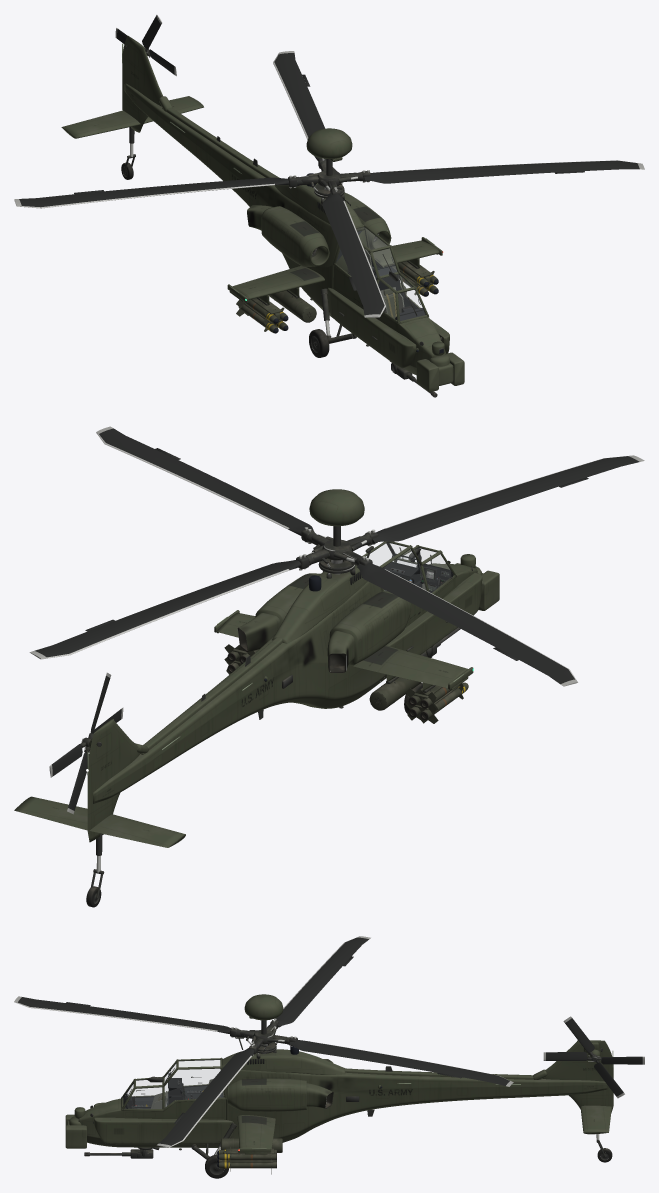
Rendered from apache_ah64d_static.glb.
The picture shows the model from 3 angles, top to bottom: view 1: azimuth 30°, elevation 25°; view 2: azimuth 150°, elevation 25°; view 3: azimuth 270°, elevation 25°; orthographic projection. The views are drawn at different scales.
Parts seen in each view (by area): view 1: Main_Rotor_Blades, Fuselage_Aft, Avionics_Bay_Right, Nacelle_Right_Skin, Fin, Stabilator, Wing_Right_Skin, TADS_Sensor_Shrouds, FCR_Radome_Mesh, Main_Rotor_Hub, Fuselage_Nose, Canopy_Frame (+9 smaller); view 2: Main_Rotor_Blades, Fuselage_Aft, Nacelle_Right_Skin, Fin, Stabilator, Rotor_Pylon, Avionics_Bay_Right, Wing_Right_Skin, Main_Rotor_Hub, FCR_Radome_Mesh, Drive_Shaft_Cover, Tail_Rotor_Blades (+6 smaller); view 3: Fuselage_Aft, Main_Rotor_Blades, Avionics_Bay_Left, Nacelle_Left_Skin, Fin, Rotor_Pylon, Tail_Rotor_Blades, Fuselage_Cockpit, Wing_Left_Skin, Canopy_Frame, Main_Rotor_Hub, Fuselage_Nose (+10 smaller).
Boxes of the visible parts, x1=… form: Main_Rotor_Blades: x1=14, y1=51, x2=644, y2=317; Fuselage_Aft: x1=124, y1=83, x2=368, y2=317; Avionics_Bay_Right: x1=327, y1=287, x2=416, y2=368; Nacelle_Right_Skin: x1=261, y1=206, x2=328, y2=266; Fin: x1=122, y1=35, x2=163, y2=132; Stabilator: x1=61, y1=96, x2=203, y2=138; Wing_Right_Skin: x1=232, y1=266, x2=324, y2=299; TADS_Sensor_Shrouds: x1=416, y1=352, x2=464, y2=392; FCR_Radome_Mesh: x1=306, y1=128, x2=352, y2=175; Main_Rotor_Hub: x1=288, y1=158, x2=370, y2=195; Fuselage_Nose: x1=398, y1=317, x2=446, y2=375; Canopy_Frame: x1=332, y1=224, x2=428, y2=324; Main_Rotor_Blades: x1=29, y1=426, x2=644, y2=686; Fuselage_Aft: x1=93, y1=581, x2=386, y2=803; Nacelle_Right_Skin: x1=329, y1=591, x2=410, y2=664; Fin: x1=87, y1=718, x2=140, y2=842; Stabilator: x1=14, y1=796, x2=185, y2=847; Rotor_Pylon: x1=272, y1=565, x2=367, y2=643; Avionics_Bay_Right: x1=386, y1=572, x2=482, y2=654; Wing_Right_Skin: x1=353, y1=645, x2=467, y2=687; Main_Rotor_Hub: x1=296, y1=527, x2=378, y2=574; FCR_Radome_Mesh: x1=309, y1=489, x2=364, y2=546; Drive_Shaft_Cover: x1=135, y1=637, x2=282, y2=754; Tail_Rotor_Blades: x1=49, y1=672, x2=123, y2=814; Fuselage_Aft: x1=222, y1=1067, x2=607, y2=1142; Main_Rotor_Blades: x1=14, y1=936, x2=513, y2=1147; Avionics_Bay_Left: x1=94, y1=1117, x2=233, y2=1144; Nacelle_Left_Skin: x1=228, y1=1078, x2=306, y2=1111; Fin: x1=541, y1=1040, x2=613, y2=1112; Rotor_Pylon: x1=222, y1=1049, x2=345, y2=1074; Tail_Rotor_Blades: x1=543, y1=1016, x2=644, y2=1098; Fuselage_Cockpit: x1=122, y1=1099, x2=225, y2=1147; Wing_Left_Skin: x1=237, y1=1115, x2=275, y2=1150; Canopy_Frame: x1=121, y1=1057, x2=226, y2=1111; Main_Rotor_Hub: x1=230, y1=1018, x2=297, y2=1055; Fuselage_Nose: x1=78, y1=1098, x2=122, y2=1147.
Size of what is drawn, in the model's own units: 13.65 by 4.95 by 17.23.
43 materials, 18 textured.
